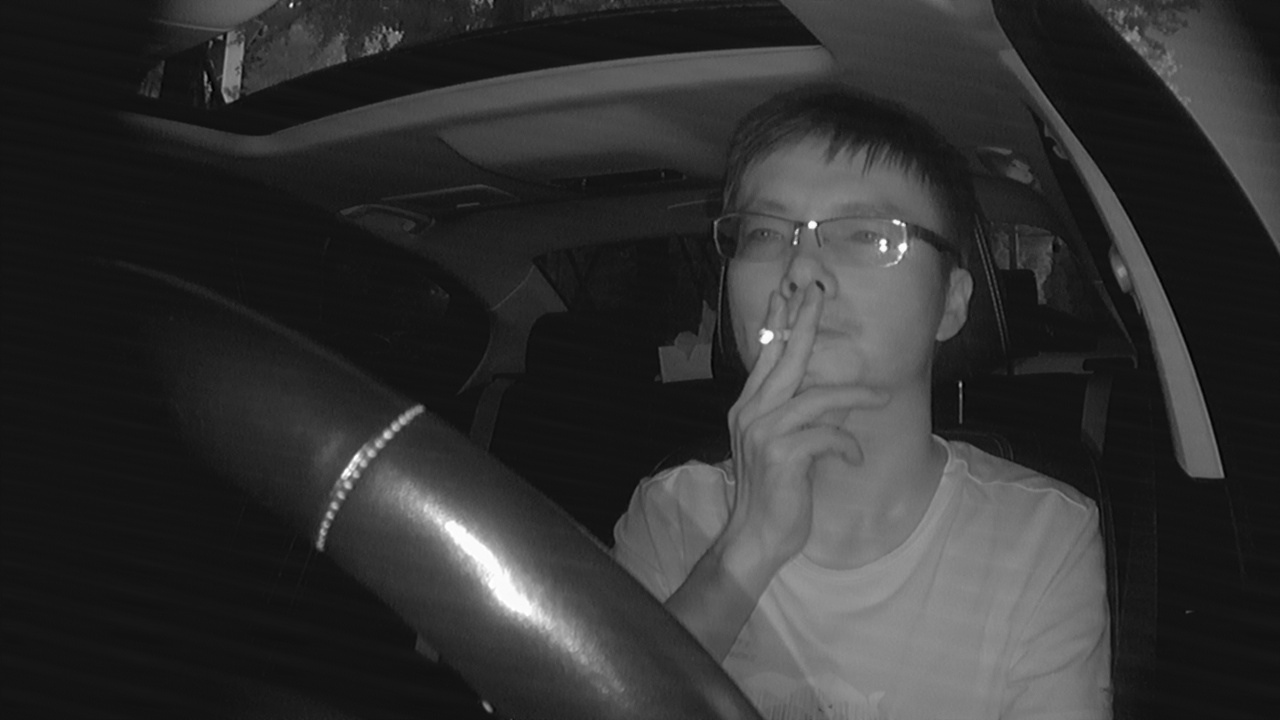hand: (729, 299, 871, 484)
